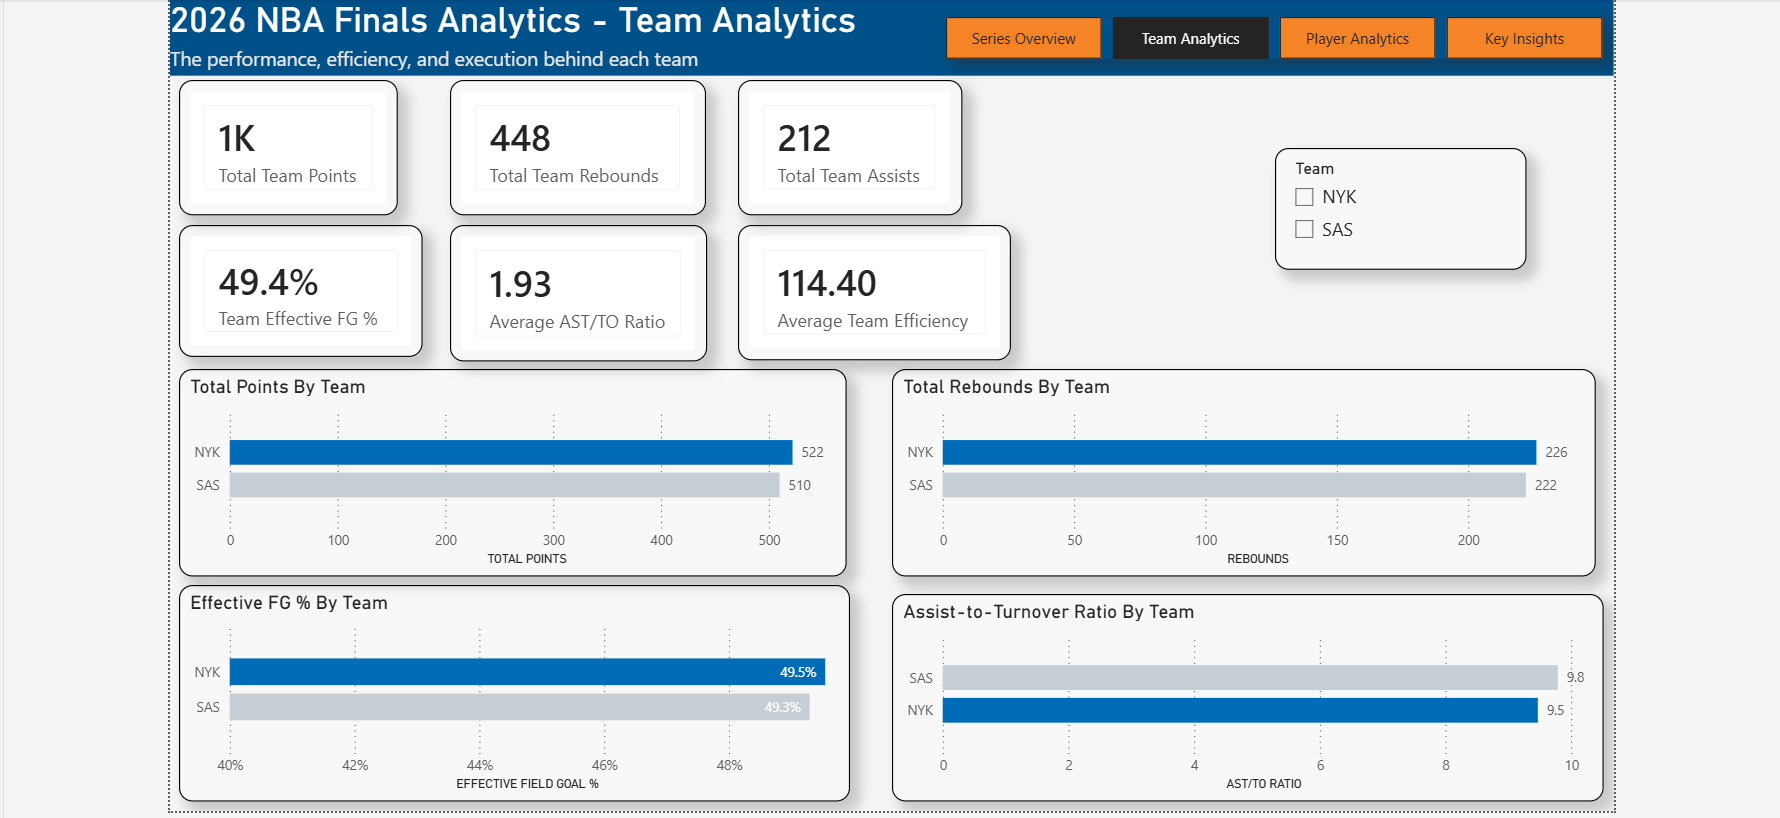

What the dashboard file says about the page in this screenshot:
{"tool":"powerbi","page":{"name":"Team Analytics","canvas":[1280,720],"ordinal":1},"visuals":[{"type":"cardVisual","fields":{"Data":["Avg(team_analytics.TEAM_EFFICIENCY)"]},"box":[504,200,242.1,119.7],"z":0},{"type":"cardVisual","fields":{"Data":["Sum(team_analytics.TOTAL_POINTS)"]},"box":[8,72,194.4,120.1],"z":1000},{"type":"cardVisual","fields":{"Data":["Sum(team_analytics.TOTAL_REBOUNDS)"]},"box":[248,72,226.8,120.1],"z":2000},{"type":"cardVisual","fields":{"Data":["Sum(team_analytics.TOTAL_ASSISTS)"]},"box":[504,72,198.6,119.7],"z":3000},{"type":"cardVisual","fields":{"Data":["Measures (2).Team Effective FG %"]},"box":[8,200,216.4,117],"z":4000},{"type":"cardVisual","fields":{"Data":["Avg(team_analytics.TEAM_AST_TO_RATIO)"]},"box":[248,200,227.9,121.5],"z":5000},{"type":"slicer","fields":{"Values":["team_analytics.TEAM_ABBREVIATION"]},"box":[952.3,143.6,222.6,108.2],"z":6000},{"type":"clusteredBarChart","title":"Total Points By Team","fields":{"Category":["team_analytics.TEAM_ABBREVIATION"],"Y":["Sum(team_analytics.TOTAL_POINTS)"]},"box":[8,328,592,184],"z":7000},{"type":"clusteredBarChart","title":"Effective FG % By Team","fields":{"Category":["team_analytics.TEAM_ABBREVIATION"],"Y":["Measures (2).Team Effective FG %"]},"box":[8,519.6,595,192.4],"z":8000},{"type":"clusteredBarChart","title":"Total Rebounds By Team","fields":{"Category":["team_analytics.TEAM_ABBREVIATION"],"Y":["Sum(team_analytics.TOTAL_REBOUNDS)"]},"box":[640,328,624,184],"z":9000},{"type":"clusteredBarChart","title":"Assist-to-Turnover Ratio By Team","fields":{"Category":["team_analytics.TEAM_ABBREVIATION"],"Y":["Sum(team_analytics.TEAM_AST_TO_RATIO)"]},"box":[640.2,527.6,631.3,184.4],"z":10000},{"type":"shape","title":"2026 NBA Finals Analytics - Team Analytics","box":[0,0,1280.4,68.3],"z":12000},{"type":"pageNavigator","box":[688.1,16,583.4,37.2],"z":12001}]}

Visuals, with their boxes in screenshot pixels (x1, y1, x2, y2):
cardVisual - Avg(team_analytics.TEAM_EFFICIENCY): detection(730, 219, 1001, 353)
cardVisual - Sum(team_analytics.TOTAL_POINTS): detection(176, 76, 393, 210)
cardVisual - Sum(team_analytics.TOTAL_REBOUNDS): detection(444, 76, 697, 210)
cardVisual - Sum(team_analytics.TOTAL_ASSISTS): detection(730, 76, 952, 210)
cardVisual - Measures (2).Team Effective FG %: detection(176, 219, 418, 350)
cardVisual - Avg(team_analytics.TEAM_AST_TO_RATIO): detection(444, 219, 699, 355)
slicer - team_analytics.TEAM_ABBREVIATION: detection(1231, 156, 1480, 277)
"Total Points By Team" clusteredBarChart: detection(176, 362, 837, 567)
"Effective FG % By Team" clusteredBarChart: detection(176, 576, 841, 791)
"Total Rebounds By Team" clusteredBarChart: detection(882, 362, 1579, 567)
"Assist-to-Turnover Ratio By Team" clusteredBarChart: detection(882, 585, 1588, 791)
"2026 NBA Finals Analytics - Team Analytics" shape: detection(167, 0, 1598, 72)
pageNavigator: detection(936, 13, 1588, 55)
